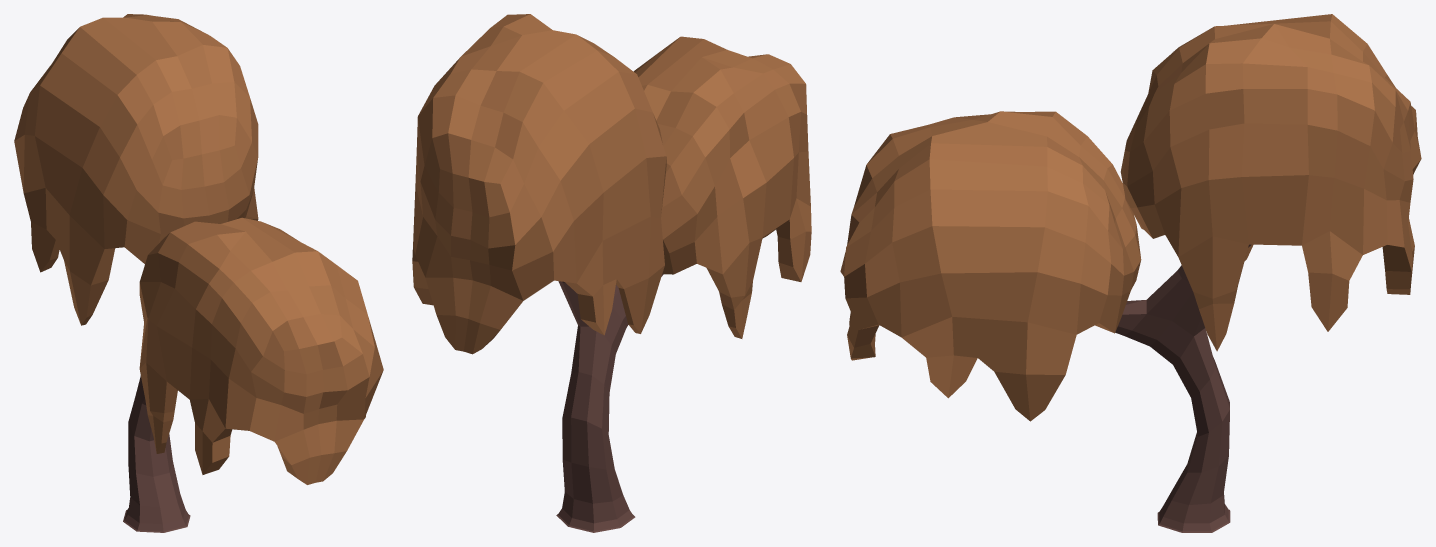
Rendered from Willow_Autumn_5.gltf.
The picture shows the model from 3 angles, left to right: view 1: azimuth 30°, elevation 25°; view 2: azimuth 150°, elevation 25°; view 3: azimuth 270°, elevation 25°; orthographic projection. The views are drawn at different scales.
Parts seen in each view (by area): view 1: Willow_Autumn_5; view 2: Willow_Autumn_5; view 3: Willow_Autumn_5.
Part boxes in pixels (x1=…): Willow_Autumn_5: x1=14, y1=14, x2=383, y2=532; Willow_Autumn_5: x1=412, y1=14, x2=811, y2=532; Willow_Autumn_5: x1=840, y1=14, x2=1421, y2=532.
Bounding box in the file's own units: 1.01 × 2.42 × 2.49.
